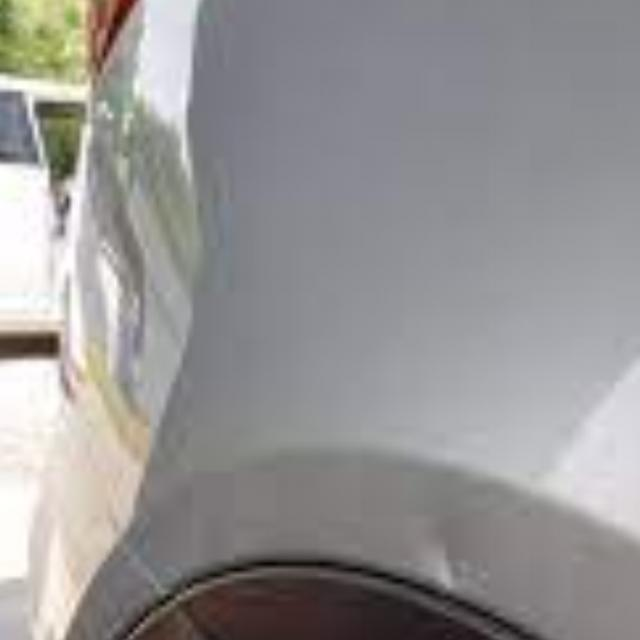dents: (417, 517, 491, 611)
